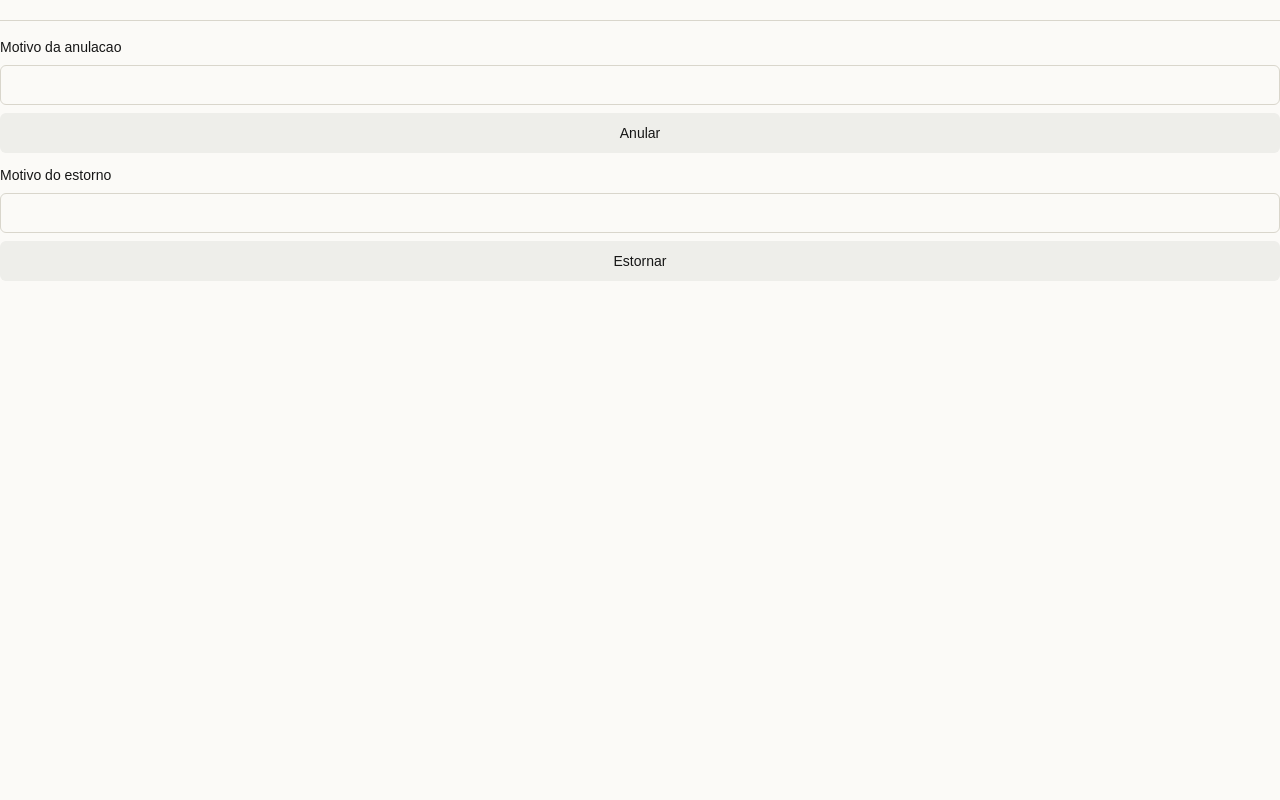
Test: TransactionLifecycleActions › requires labeled reasons and confirmation for void and reversal
The width and height of the screenshot is (1280, 800).
Click the button "Anular": (640, 133) 0,113 -> 1279,153
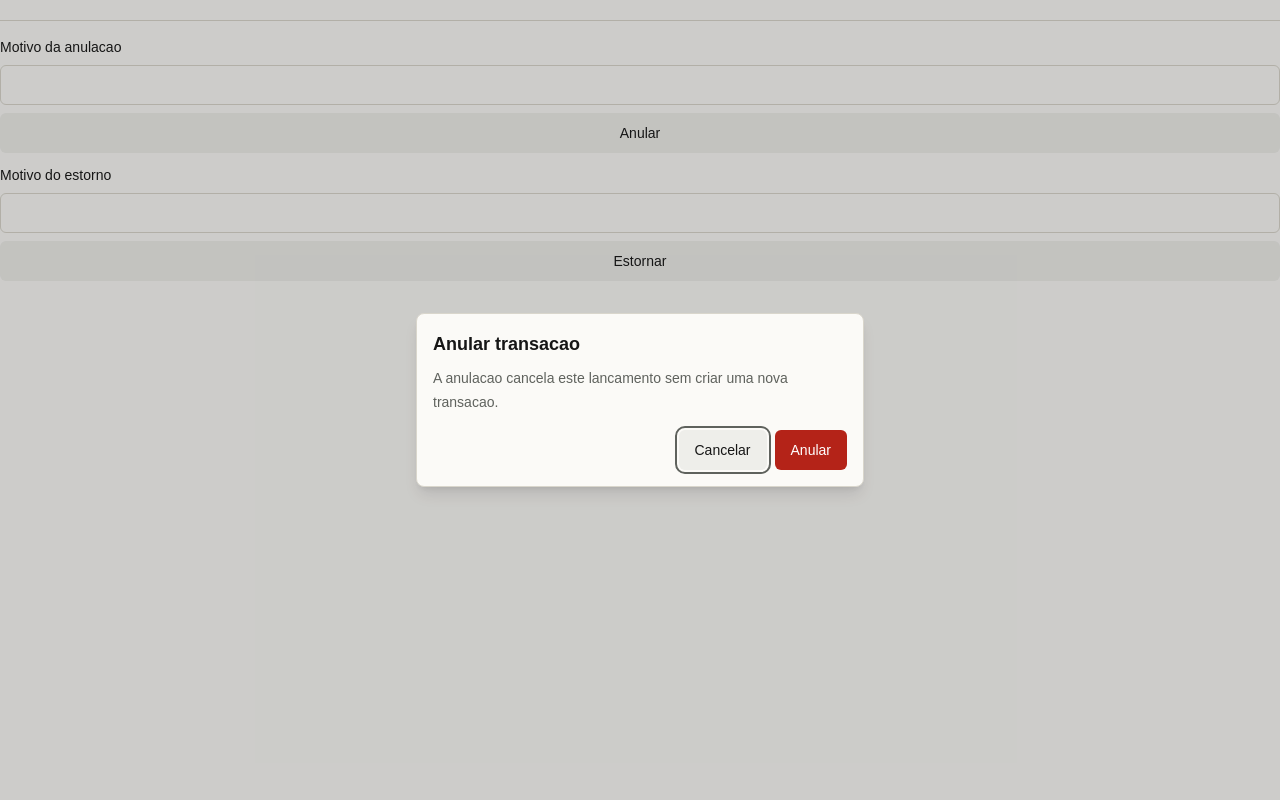
Expected: the dialog shows "sem criar uma nova transacao", 433,370 -> 788,410
Click the button "Cancelar": (722, 450) 678,430 -> 766,470
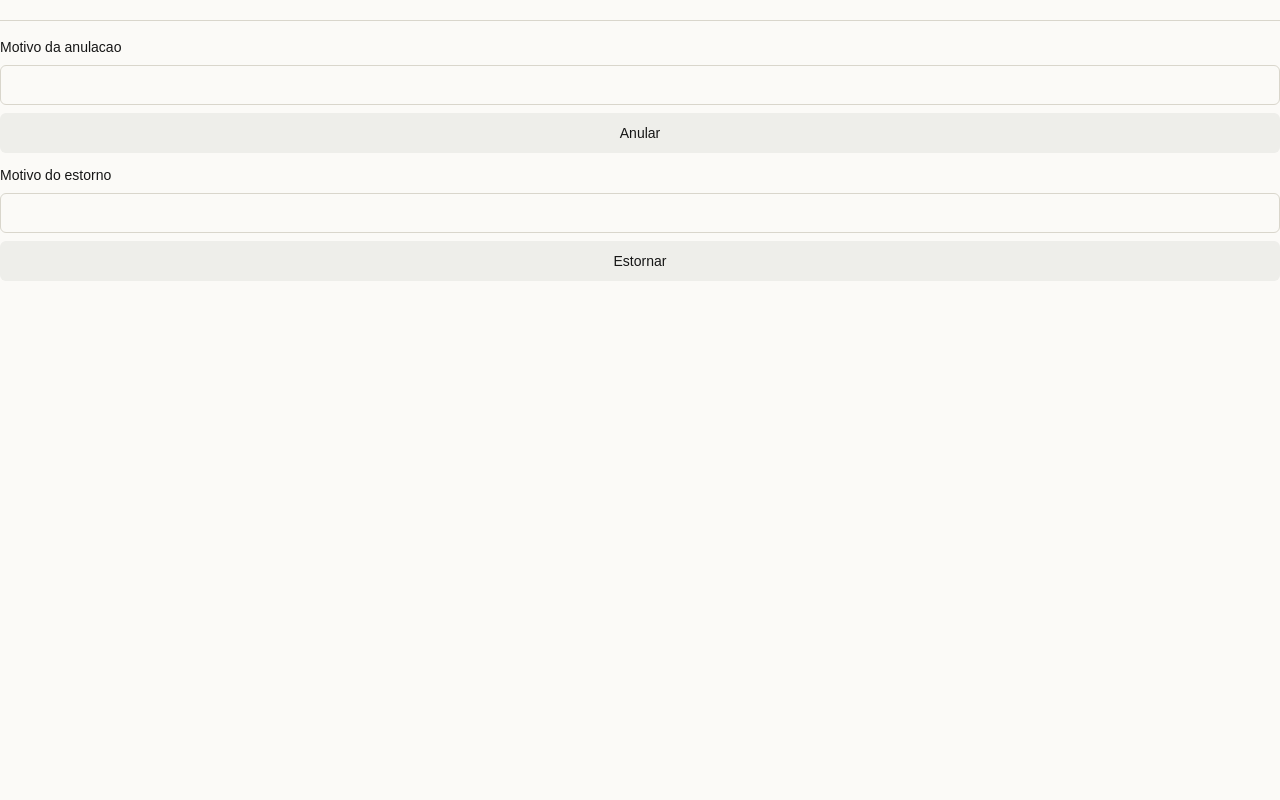
Click the button "Estornar": (640, 261) 0,241 -> 1279,281
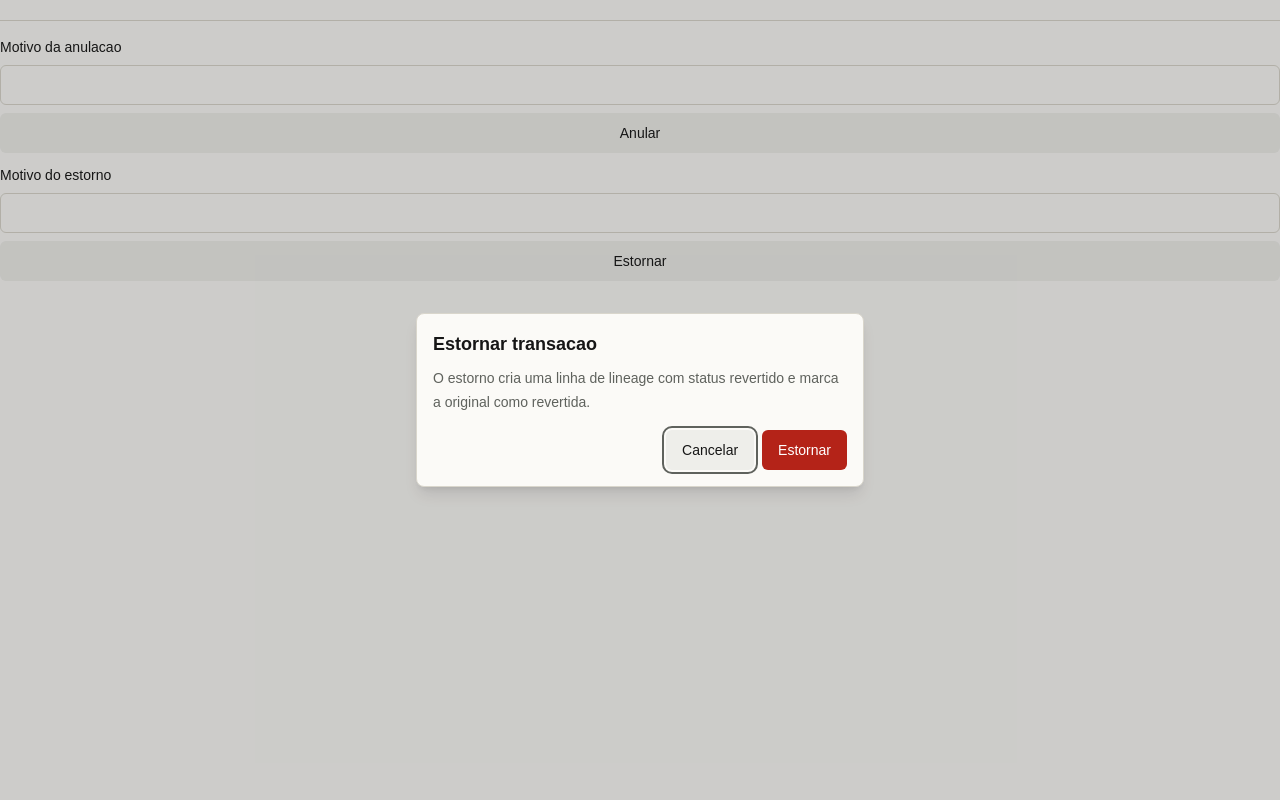
Expected: the dialog shows "cria uma linha de lineage", 433,370 -> 838,410
